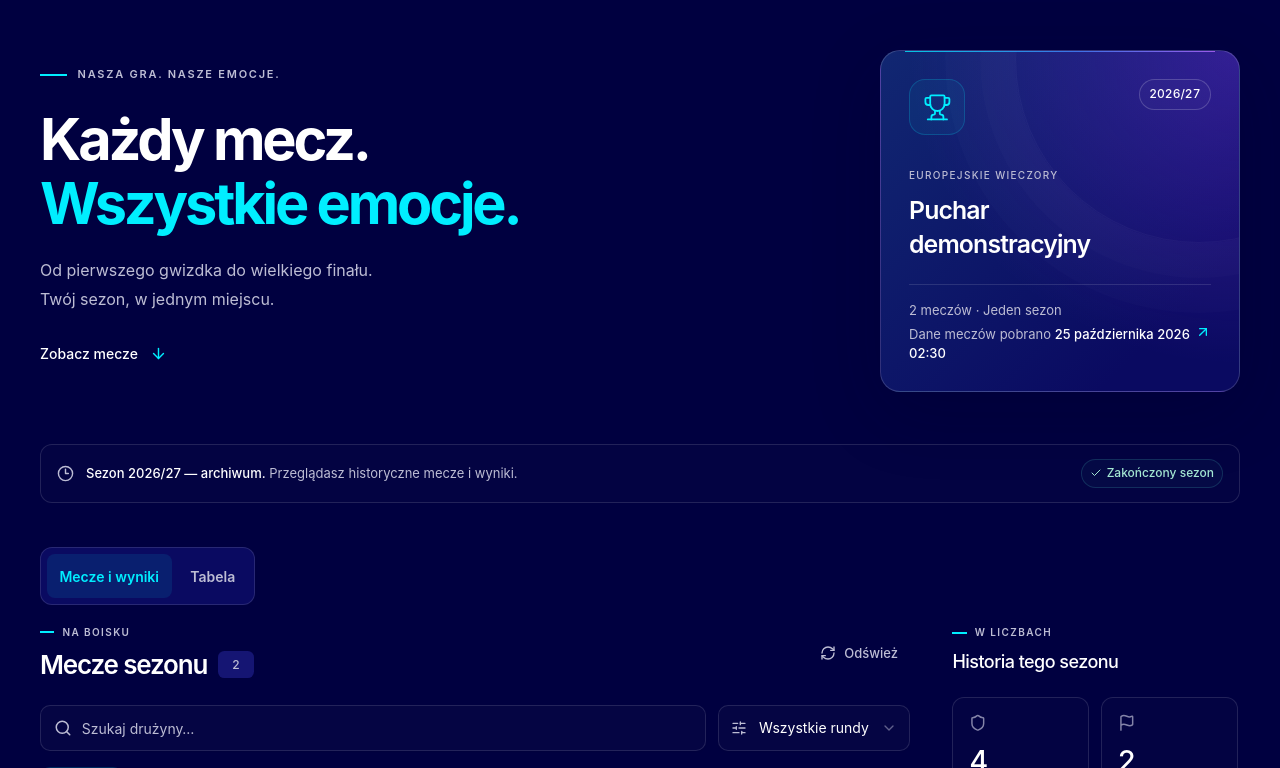
preserves the season, loaded matches and filters through a failed refresh and a successful retry
Type "Północ" into the search field named "Szukaj drużyny lub rundy".
click(373, 728); type("Północ")  # box [40,706,706,752]
(page scrolled)
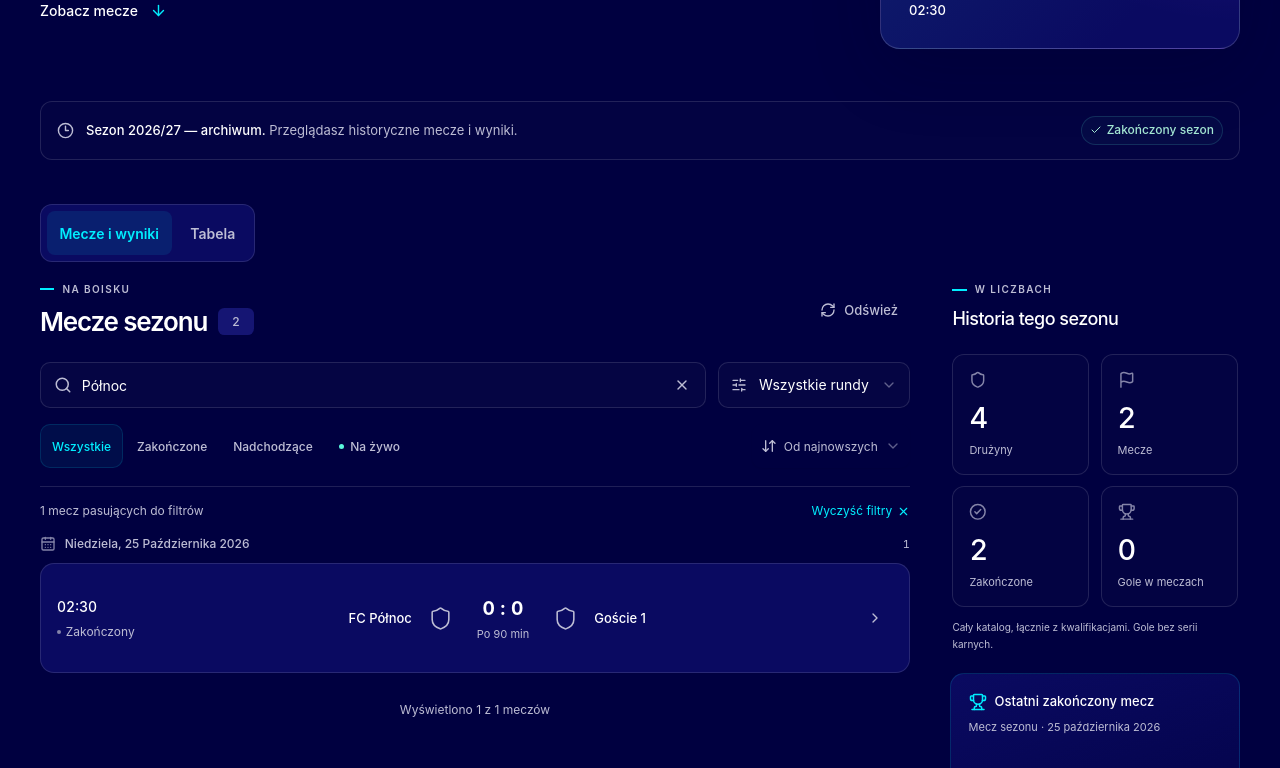
Click the button "Zakończone".
click(172, 446)  # box [125,424,219,468]
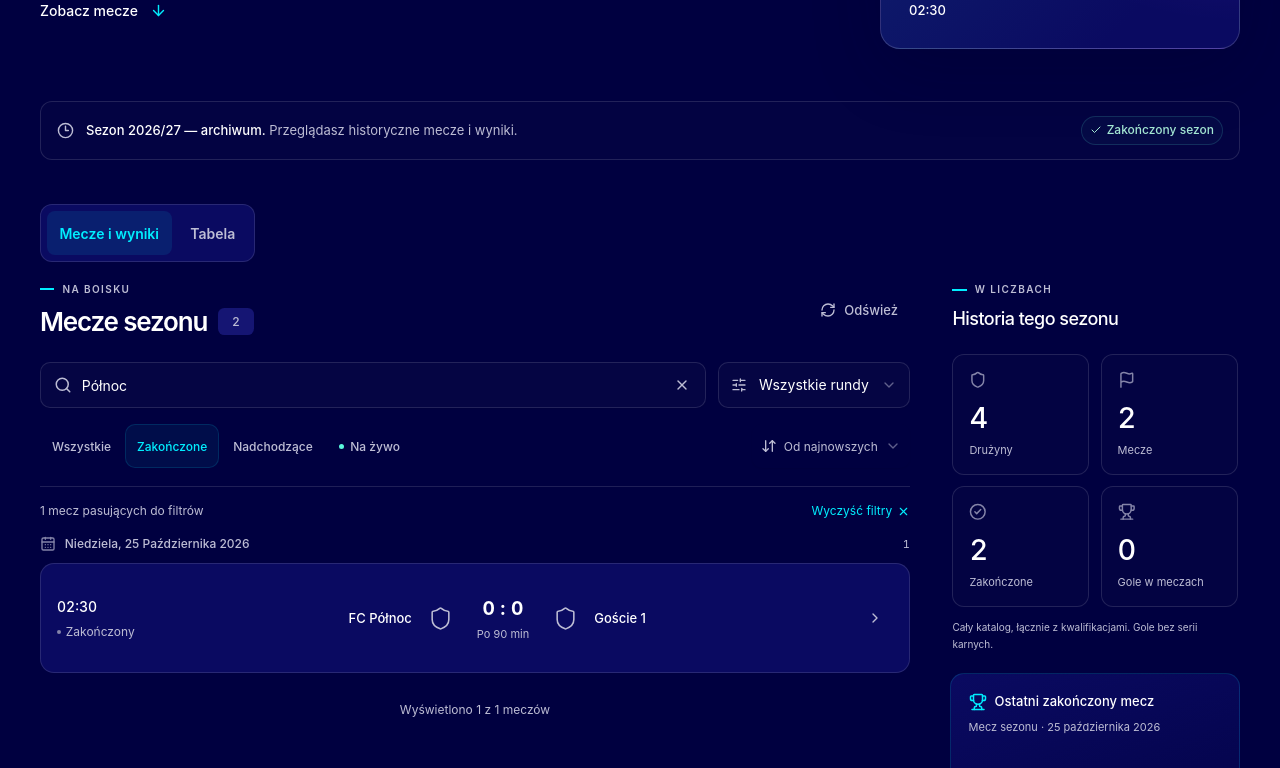
Click the button with aria-label "Odśwież mecze".
click(859, 310)  # box [808,288,910,332]
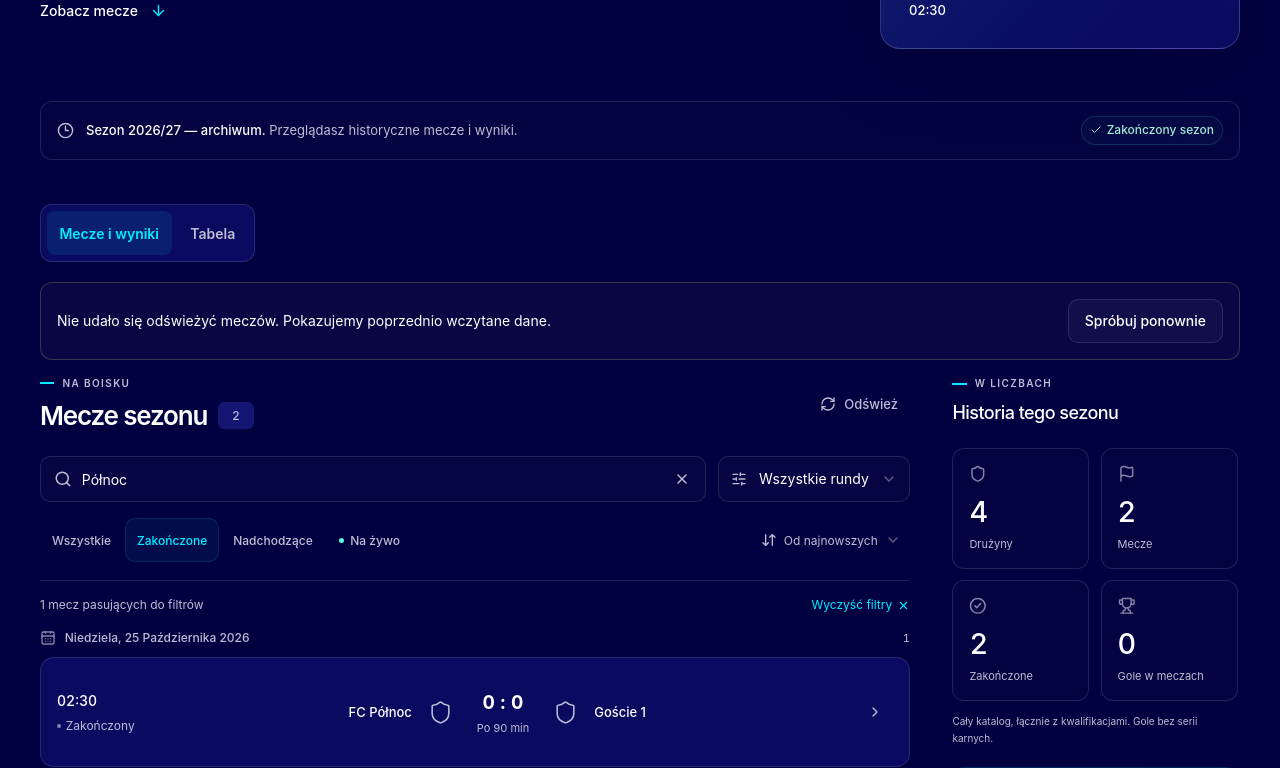
Expected: the element named "FC Północ — Goście 1" is shown, [57,690,897,735]
Now the message shows "Nie udało się odświeżyć meczów.", box [57,312,551,329]
Now the message shows "Pokazujemy poprzednio wczytane dane.", box [57,312,551,329]
Click the button "Spróbuj ponownie".
click(1145, 321)  # box [1068,299,1223,343]
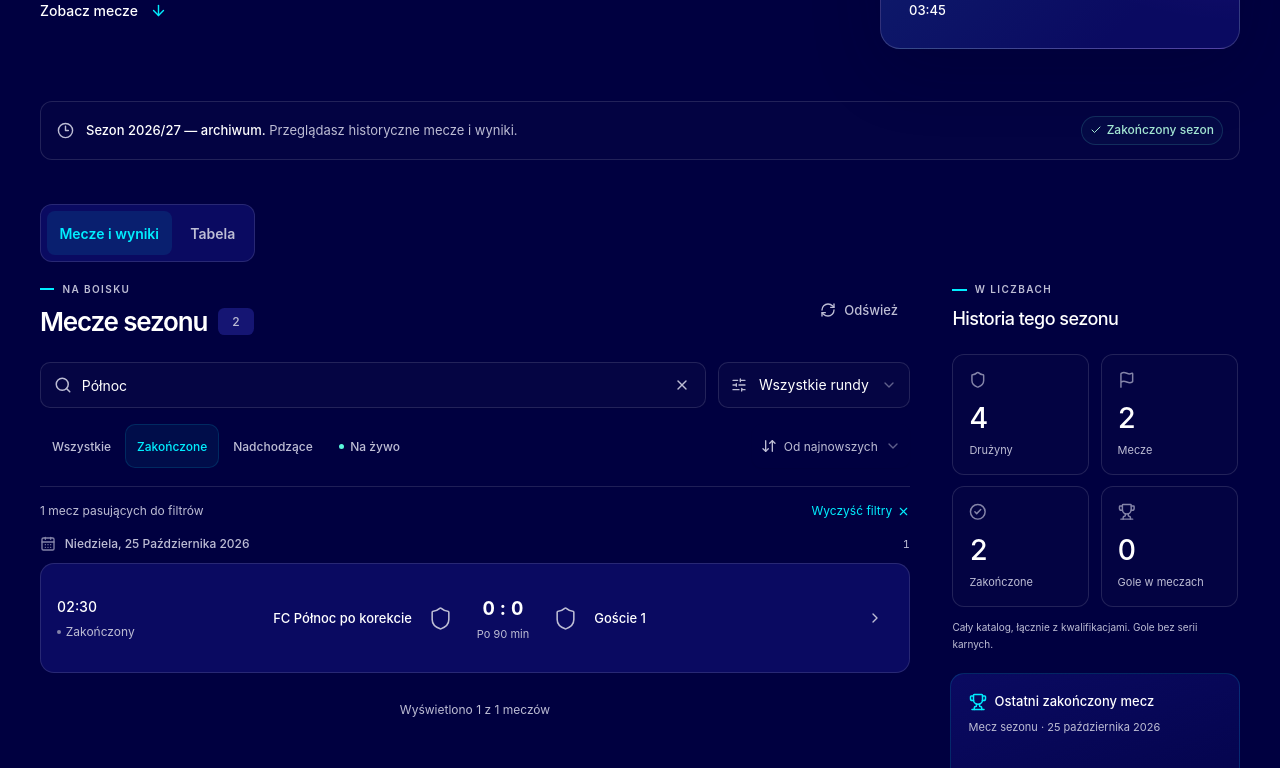
Now the element named "FC Północ po korekcie — Goście 1" is shown, box [57,596,897,641]
Now the message is gone
